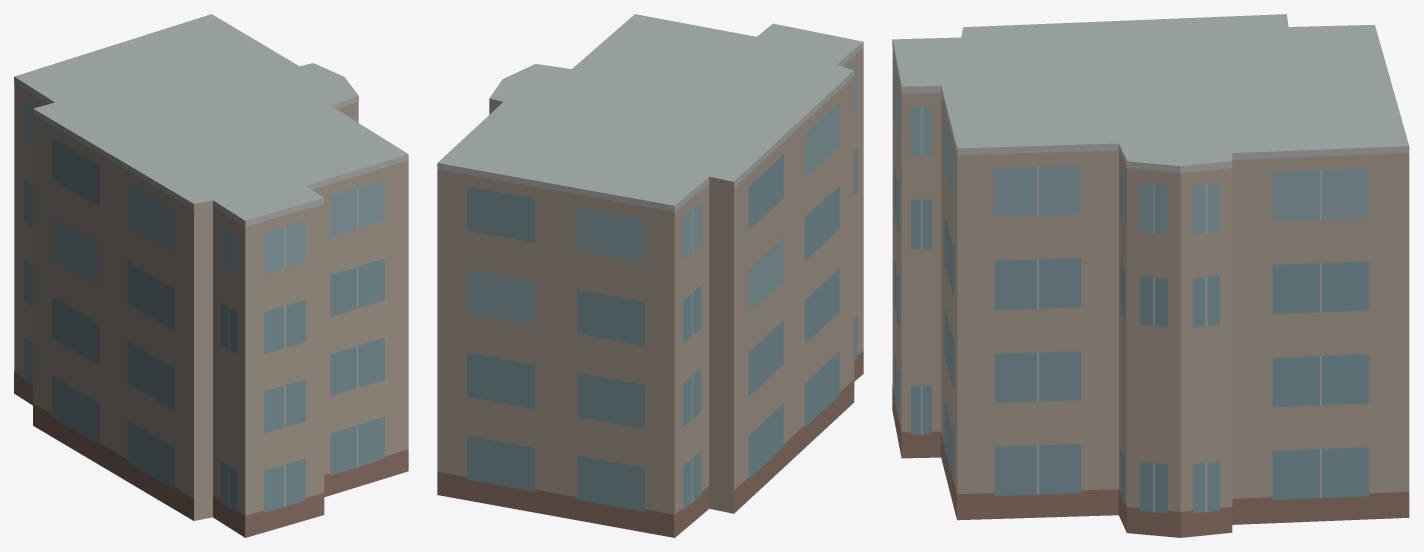
File: survey-upis-32644862.glb
3 views of the same model, side by side, from view 1: azimuth 30°, elevation 25°; view 2: azimuth 150°, elevation 25°; view 3: azimuth 270°, elevation 25° (orthographic). The views are drawn at different scales.
Parts seen in each view (by area): view 1: survey-upis-32644862.tmp; view 2: survey-upis-32644862.tmp; view 3: survey-upis-32644862.tmp.
Part boxes in pixels (left/top/right/bottom): survey-upis-32644862.tmp: left=14, top=14, right=408, bottom=537; survey-upis-32644862.tmp: left=437, top=14, right=863, bottom=537; survey-upis-32644862.tmp: left=892, top=14, right=1409, bottom=537.
Size of the model in its own units: 11.52 by 13.1 by 16.52.
